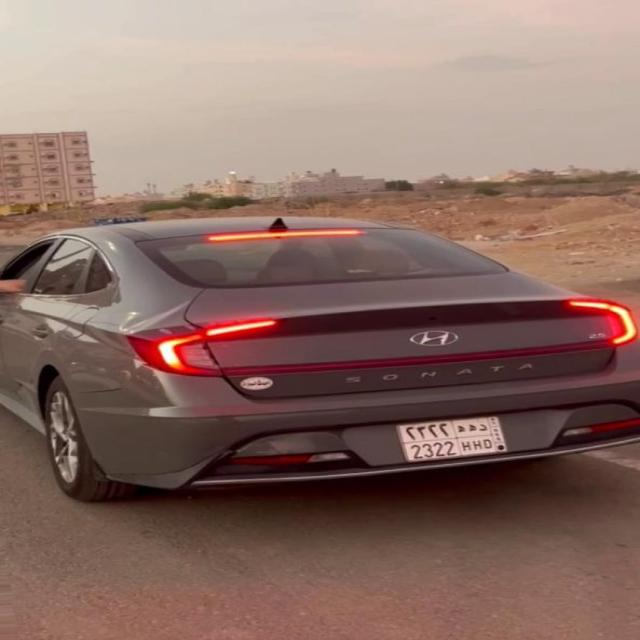Car-plate: (391, 403, 530, 475)
